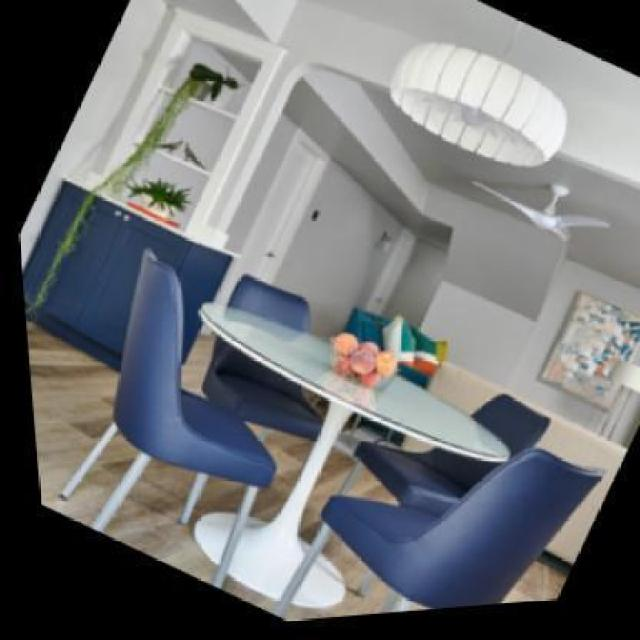tables: (195, 300, 511, 617)
